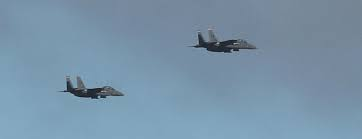plane: (186, 28, 258, 53), (56, 74, 123, 98)
